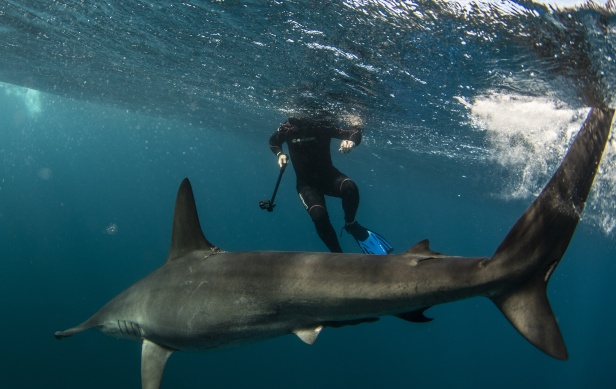Hammer: (33, 101, 616, 384)
